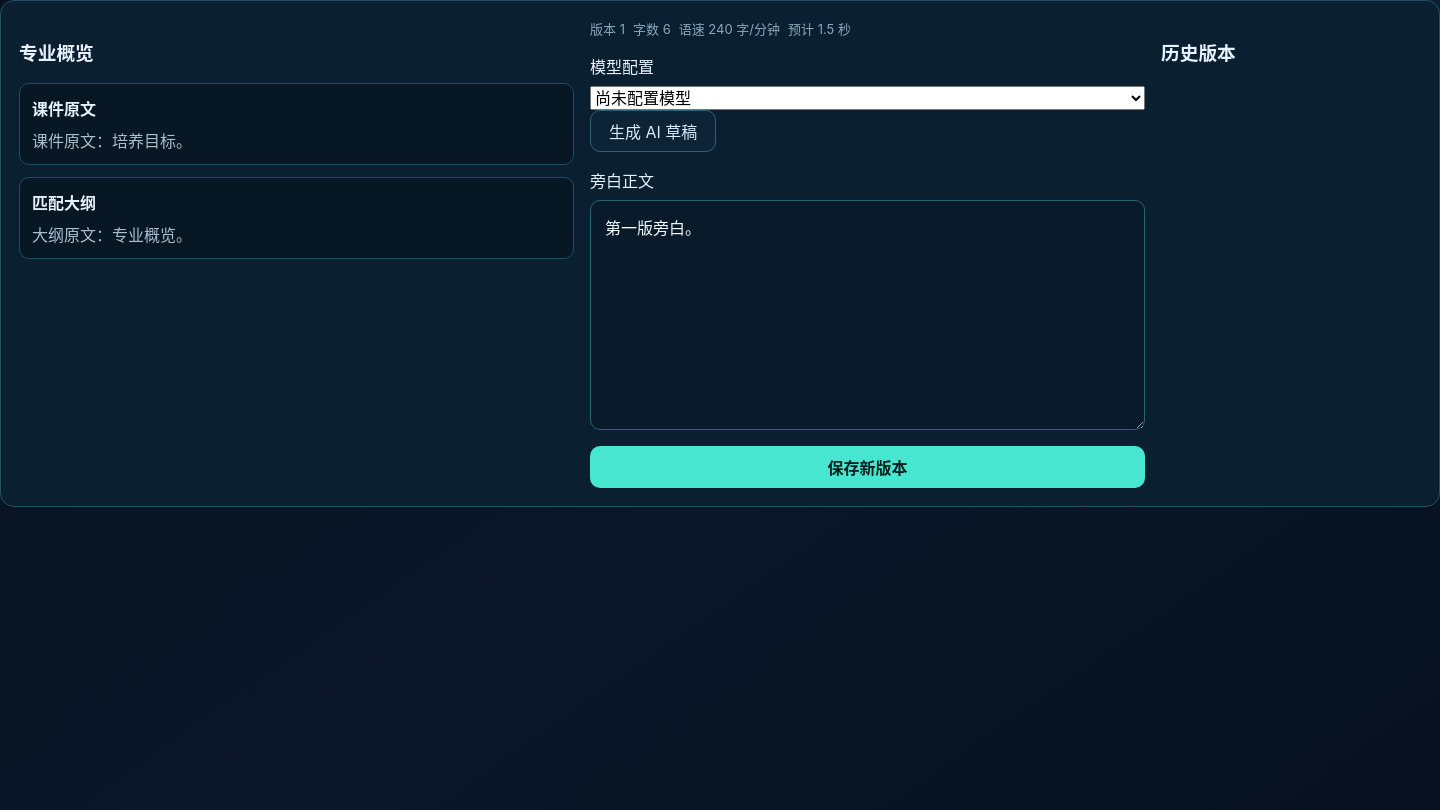
Test: narration editor › edits, compares, and restores immutable page revisions
Expected: the text "版本 1" is shown, [590,19,625,38]
Expected: the text "课件原文：培养目标。" is shown, [32,131,192,151]
Step 1. Replace the text in the text box labelled "旁白正文" with "第二版旁白，包含更清楚的培养说明。" → [868, 315], box [590,200,1145,430]
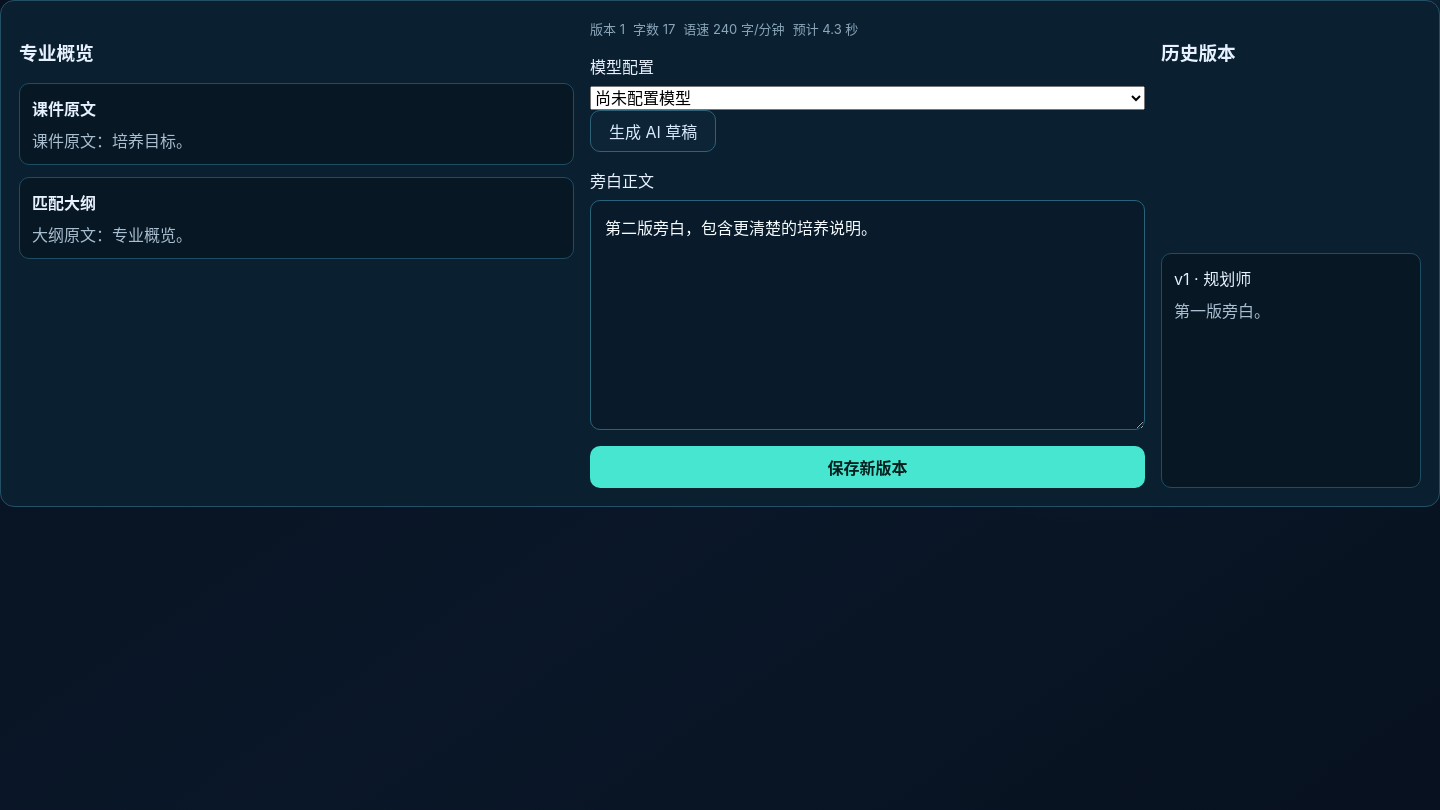
Expected: the text "字数 17" is shown, [633,19,675,38]
Expected: the text "预计 4.3 秒" is shown, [793,19,858,38]
Step 2. Click the button "保存新版本" → [868, 467], box [590,446,1145,488]
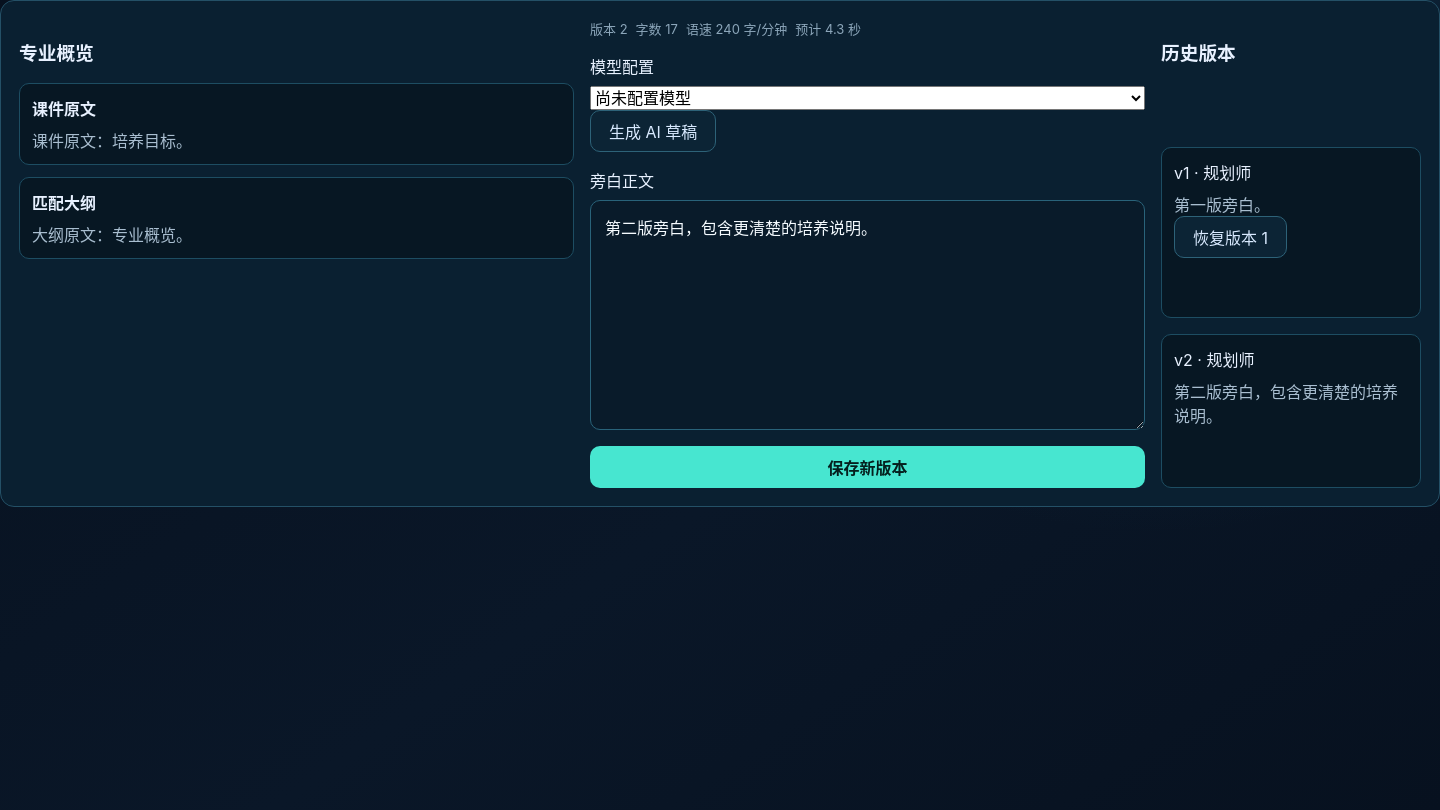
Expected: the text "版本 2" is shown, [590,19,628,38]
Step 3. Click the button "恢复版本 1" → [1230, 237], box [1174,216,1287,258]
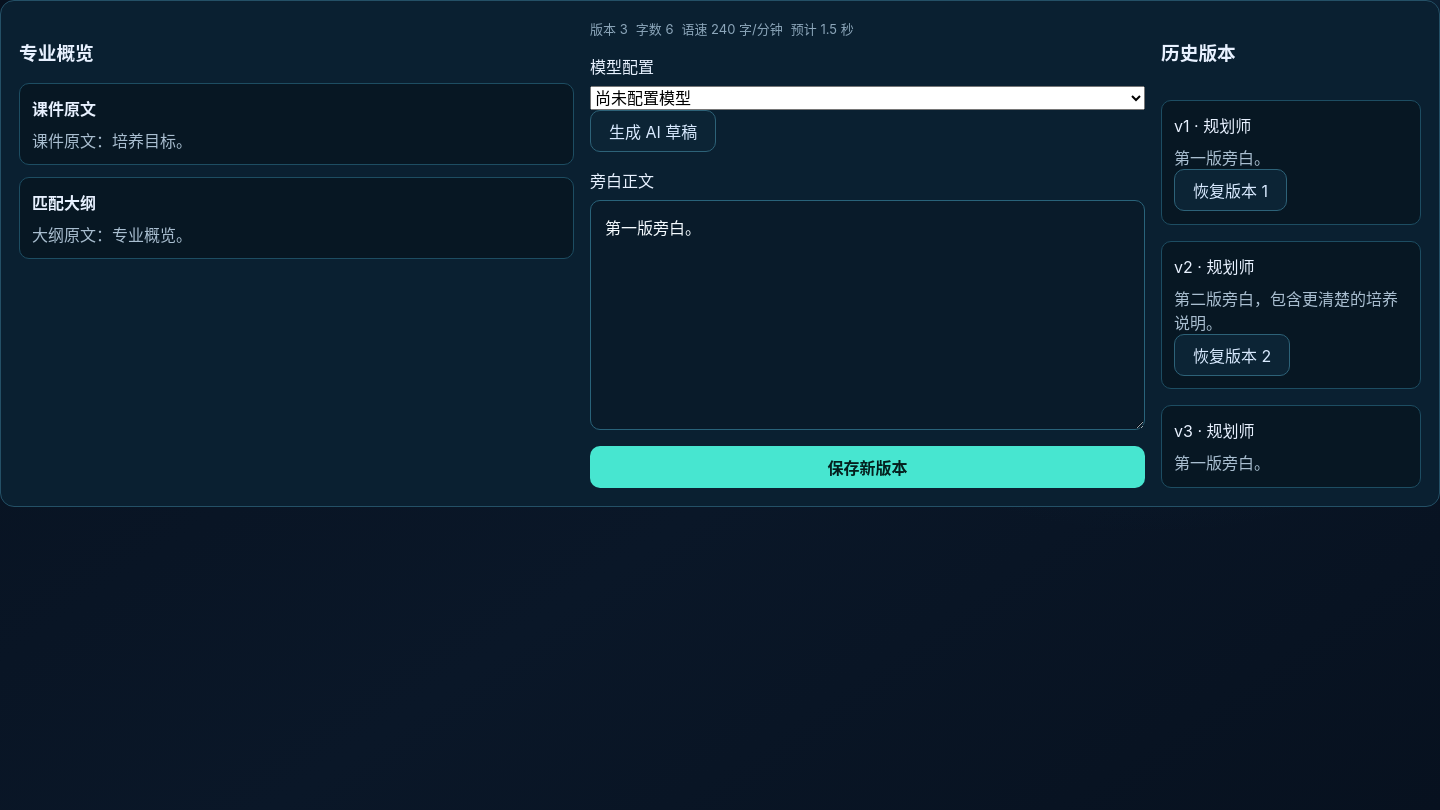
Expected: the text "版本 3" is shown, [590,19,628,38]
Expected: the text box labelled "旁白正文" holds "第一版旁白。", [590,200,1145,430]
